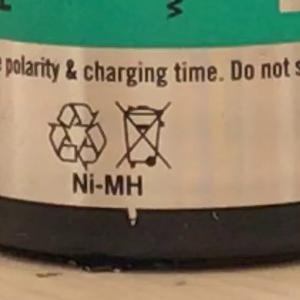keyword: (63, 165, 152, 204)
